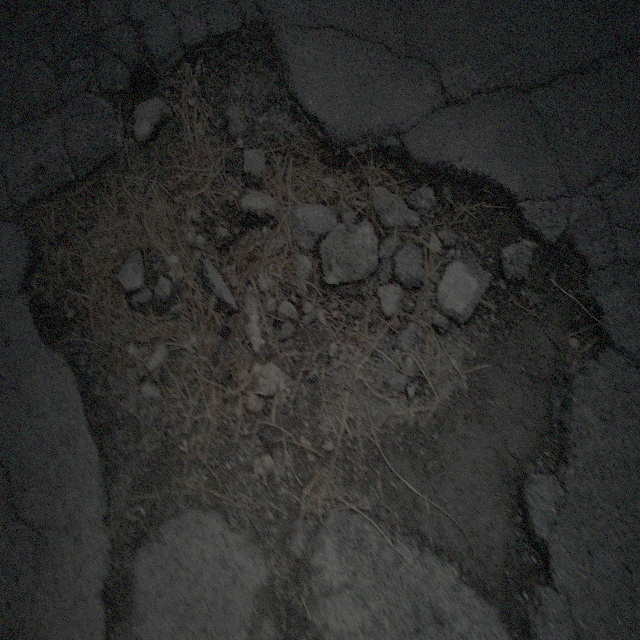pothole: (24, 19, 607, 613)
